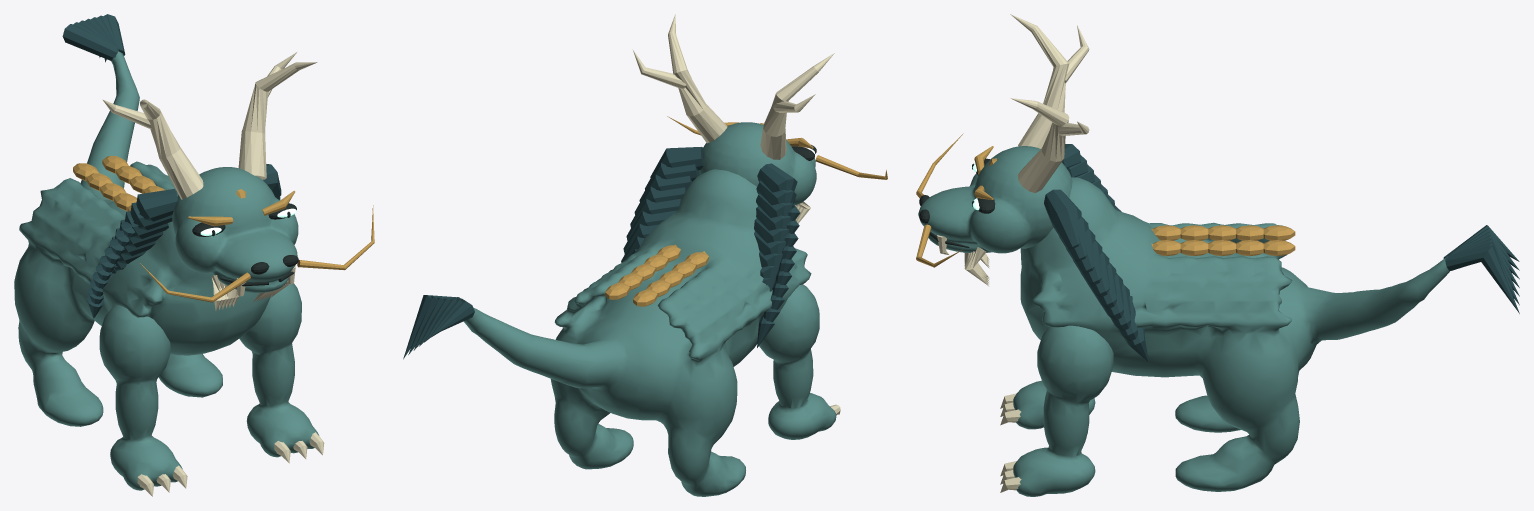
File: jade_sentinel.glb
3 renders of one model, left to right at view 1: azimuth 30°, elevation 25°; view 2: azimuth 150°, elevation 25°; view 3: azimuth 270°, elevation 25°, orthographic. The views are drawn at different scales.
Visible parts, largest first — view 1: Body_Jade, Head_Jade, Foreleg0_Jade, Foreleg1_Jade, Head_Ivory, Head_Mane, Body_Gold, Body_Mane, Head_Gold, Head_Ink, Foreleg0_Ivory, Foreleg1_Ivory; view 2: Body_Jade, Head_Mane, Foreleg0_Jade, Head_Ivory, Head_Jade, Body_Gold, Body_Mane, Head_Gold; view 3: Body_Jade, Foreleg1_Jade, Head_Jade, Head_Mane, Head_Ivory, Body_Gold, Body_Mane, Foreleg0_Jade, Head_Gold.
Boxes of the visible parts, <box> form: Body_Jade: <box>14,51,270,426</box>; Head_Jade: <box>172,167,298,292</box>; Foreleg0_Jade: <box>99,305,182,490</box>; Foreleg1_Jade: <box>239,283,319,457</box>; Head_Ivory: <box>102,52,317,311</box>; Head_Mane: <box>86,164,281,318</box>; Body_Gold: <box>73,156,165,211</box>; Body_Mane: <box>62,14,125,62</box>; Head_Gold: <box>140,189,374,302</box>; Head_Ink: <box>192,203,298,286</box>; Foreleg0_Ivory: <box>137,465,187,496</box>; Foreleg1_Ivory: <box>274,432,324,463</box>; Body_Jade: <box>463,169,811,496</box>; Head_Mane: <box>621,147,800,347</box>; Foreleg0_Jade: <box>759,284,836,439</box>; Head_Ivory: <box>633,14,834,223</box>; Head_Jade: <box>699,122,816,205</box>; Body_Gold: <box>605,244,708,306</box>; Body_Mane: <box>403,295,474,359</box>; Head_Gold: <box>667,116,887,179</box>; Body_Jade: <box>1020,177,1449,491</box>; Foreleg1_Jade: <box>1013,325,1113,496</box>; Head_Jade: <box>918,146,1072,253</box>; Head_Mane: <box>1044,144,1148,362</box>; Head_Ivory: <box>937,14,1089,286</box>; Body_Gold: <box>1151,225,1295,256</box>; Body_Mane: <box>1443,225,1519,313</box>; Foreleg0_Jade: <box>1013,380,1095,429</box>; Head_Gold: <box>916,133,996,267</box>.
Size of the model in its own units: 3.46 by 5.43 by 7.4.
